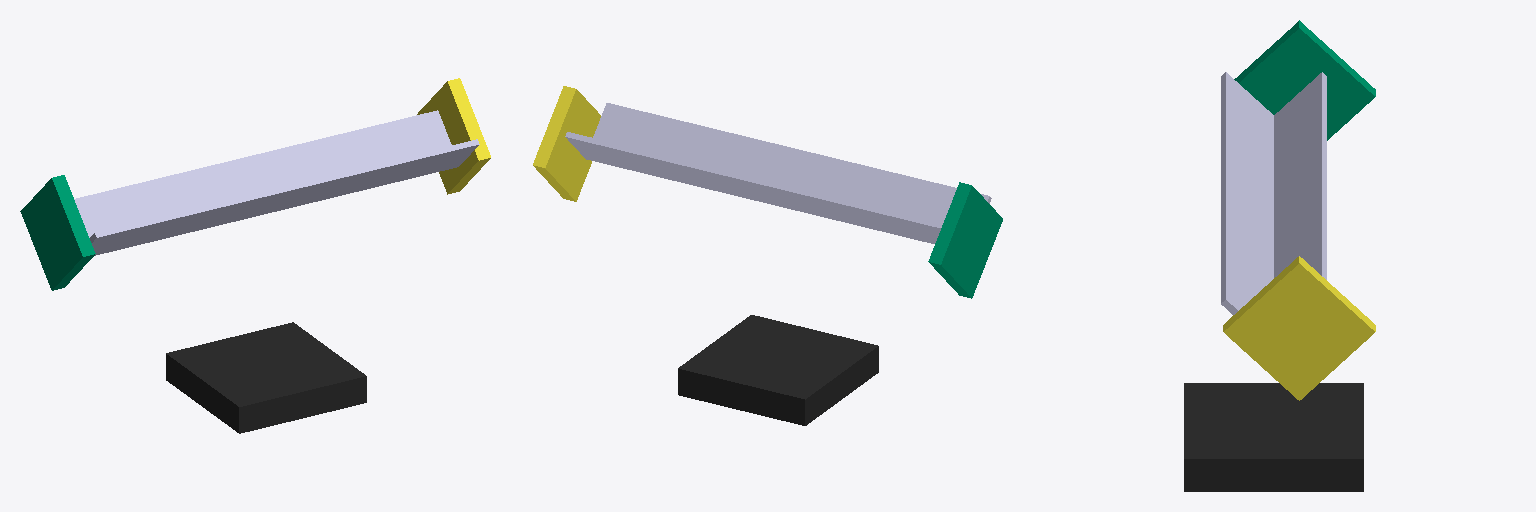
URDF robot description (ball_beam_vgroove):
<?xml version='1.0' encoding='utf-8'?>
<robot name="ball_beam_vgroove">
  <link name="base_link">
    <inertial>
      <origin xyz="0 0 0" rpy="0 0 0" />
      <mass value="0.001" />
      <inertia ixx="1e-6" ixy="0" ixz="0" iyy="1e-6" iyz="0" izz="1e-6" />
      </inertial>
    <visual>
      <origin xyz="0 0 0.01" rpy="0 0 0" />
      <geometry>
        <box size="0.10 0.10 0.02" />
        </geometry>
      <material name="gray">
        <color rgba="0.2 0.2 0.2 1" />
        </material>
      </visual>
    <collision>
      <origin xyz="0 0 0.01" rpy="0 0 0" />
      <geometry>
        <box size="0.10 0.10 0.02" />
        </geometry>
      </collision>
    </link>
  <link name="beam_link">
    <inertial>
      <origin xyz="0 0 0.035" rpy="0 0 0" />
      <mass value="0.150" />
      <inertia ixx="3.0e-05" ixy="0" ixz="0" iyy="1.30e-04" iyz="0" izz="1.30e-04" />
      </inertial>
    <visual>
      <origin xyz="0 0.01414 0.04914" rpy="0.785398 0 0" />
      <geometry>
        <box size="0.30 0.04 0.004" />
        </geometry>
      <material name="acry">
        <color rgba="0.8 0.8 0.9 1" />
        </material>
      </visual>
    <collision>
      <origin xyz="0 0.01414 0.04914" rpy="0.785398 0 0" />
      <geometry>
        <box size="0.30 0.04 0.004" />
        </geometry>
      </collision>
    <visual>
      <origin xyz="0 -0.01414 0.04914" rpy="-0.785398 0 0" />
      <geometry>
        <box size="0.30 0.04 0.004" />
        </geometry>
      <material name="acry" />
      </visual>
    <collision>
      <origin xyz="0 -0.01414 0.04914" rpy="-0.785398 0 0" />
      <geometry>
        <box size="0.30 0.04 0.004" />
        </geometry>
      </collision>
    </link>
  <link name="endstop_left">
    <inertial>
      <origin xyz="0 0 0" rpy="0 0 0" />
      <mass value="0.001" />
      <inertia ixx="1e-6" ixy="0" ixz="0" iyy="1e-6" iyz="0" izz="1e-6" />
      </inertial>
    <collision>
      <origin xyz="0 0 0" rpy="0 0 0" />
      <geometry>
        <box size="0.01 0.06 0.06" />
        </geometry>
      </collision>
    <visual>
      <origin xyz="0 0 0" rpy="0 0 0" />
      <geometry>
        <box size="0.01 0.06 0.06" />
        </geometry>
      </visual>
    </link>
  <link name="endstop_right">
    <inertial>
      <origin xyz="0 0 0" rpy="0 0 0" />
      <mass value="0.001" />
      <inertia ixx="1e-6" ixy="0" ixz="0" iyy="1e-6" iyz="0" izz="1e-6" />
      </inertial>
    <collision>
      <origin xyz="0 0 0" rpy="0 0 0" />
      <geometry>
        <box size="0.01 0.06 0.06" />
        </geometry>
      </collision>
    <visual>
      <origin xyz="0 0 0" rpy="0 0 0" />
      <geometry>
        <box size="0.01 0.06 0.06" />
        </geometry>
      </visual>
    </link>
  <joint name="endstop_left_fixed" type="fixed">
    <parent link="beam_link" />
    <child link="endstop_left" />
    <origin xyz="-0.155000 0.014140 0.049140" rpy="0.785398 0.000000 0.000000" />
    </joint>
  <joint name="endstop_right_fixed" type="fixed">
    <parent link="beam_link" />
    <child link="endstop_right" />
    <origin xyz="0.155000 0.014140 0.049140" rpy="0.785398 0.000000 0.000000" />
    </joint>
  <joint name="hinge_y" type="revolute">
    <parent link="base_link" />
    <child link="beam_link" />
    <origin xyz="0 0 0.10" rpy="0 0 0" />
    <axis xyz="0 1 0" />
    <limit lower="-0.349066" upper="0.349066" effort="50" velocity="100" />
    </joint>
  </robot>

--- Facts derived from the render (not from the file) ---
3 views of the same robot in one strip: view 1: azimuth 30°, elevation 25°; view 2: azimuth 150°, elevation 25°; view 3: azimuth 270°, elevation 25° (orthographic).
Model ball_beam_vgroove with 4 links and 3 joints (1 revolute, 2 fixed), rooted at base_link, posed all joints at 0.
Visible links, largest first — view 1: beam_link, base_link, endstop_left, endstop_right; view 2: beam_link, base_link, endstop_left, endstop_right; view 3: beam_link, base_link, endstop_right, endstop_left.
Boxes of the visible links, x1,y1,x2,y2 form: beam_link: (74,110,479,255); base_link: (166,322,366,433); endstop_left: (20,175,95,290); endstop_right: (417,78,490,194); beam_link: (565,103,991,243); base_link: (678,315,878,425); endstop_left: (928,182,1002,298); endstop_right: (533,86,600,201); beam_link: (1221,72,1326,314); base_link: (1184,383,1363,491); endstop_right: (1223,256,1375,400); endstop_left: (1234,20,1375,140).
Bounding box of the posed robot: 0.32 × 0.1066 × 0.1916 m (x, y, z).
Geometry: primitives only (box / cylinder / sphere), no mesh files.
